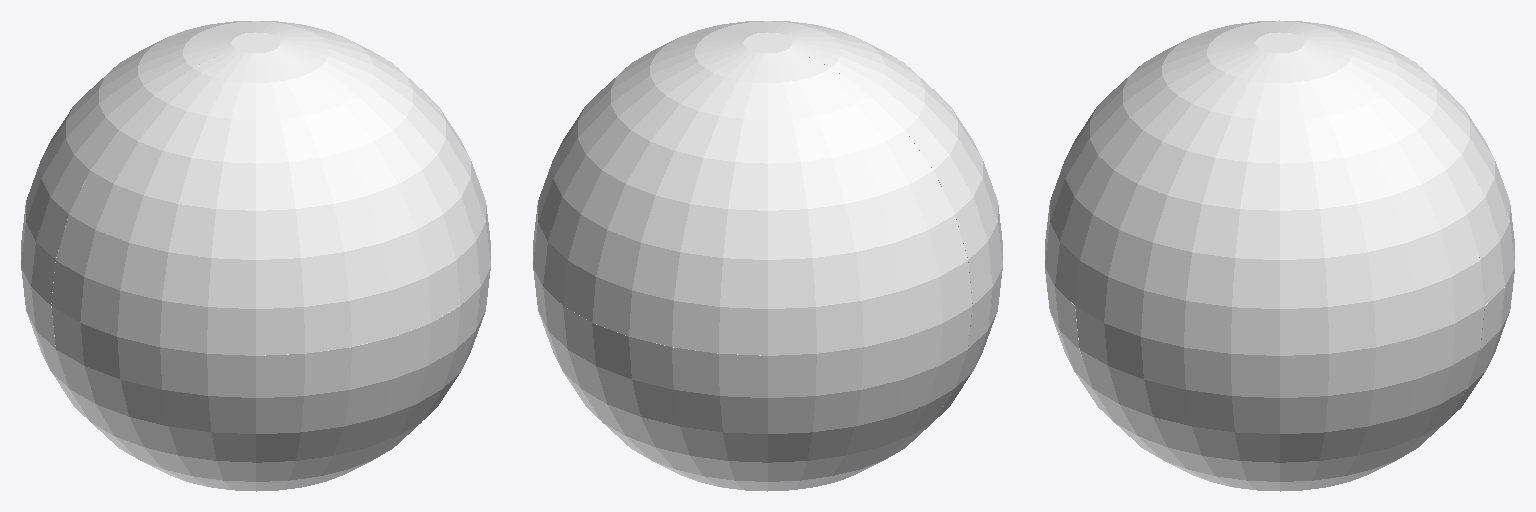
--- What the picture shows (computed from the rendered views, not written in the file) ---
3 views of the same robot in one strip: view 1: azimuth 30°, elevation 25°; view 2: azimuth 150°, elevation 25°; view 3: azimuth 270°, elevation 25° (orthographic).
Robot: morphex — 31 links, 30 joints (18 revolute, 12 fixed); root link body; default pose: all joints at 0.
Visible links, largest first — view 1: shell_top_right_rear, shell_top_right_middle, shell_bottom_right_middle, shell_bottom_right_rear, shell_top_left_rear, shell_top_right_front, shell_bottom_left_rear, shell_bottom_right_front, shell_top_left_front, shell_top_left_middle; view 2: shell_top_left_rear, shell_top_left_middle, shell_bottom_left_middle, shell_bottom_left_rear, shell_top_right_rear, shell_top_left_front, shell_bottom_right_rear, shell_bottom_left_front, shell_top_right_middle, shell_top_right_front; view 3: shell_top_right_front, shell_top_left_front, shell_bottom_right_front, shell_bottom_left_front, shell_top_right_middle, shell_top_left_middle, shell_bottom_left_middle, shell_bottom_right_middle, shell_top_left_rear, shell_top_right_rear.
Link boxes in pixels (x1,y1,x2,y2): shell_top_right_rear: (51, 43, 255, 355); shell_top_right_middle: (256, 43, 460, 355); shell_bottom_right_middle: (256, 306, 460, 491); shell_bottom_right_rear: (52, 307, 255, 490); shell_top_left_rear: (21, 37, 253, 304); shell_top_right_front: (258, 37, 490, 304); shell_bottom_left_rear: (21, 268, 88, 419); shell_bottom_right_front: (424, 268, 490, 419); shell_top_left_front: (256, 21, 391, 62); shell_top_left_middle: (120, 21, 255, 62); shell_top_left_rear: (768, 43, 972, 355); shell_top_left_middle: (563, 43, 767, 355); shell_bottom_left_middle: (563, 306, 767, 491); shell_bottom_left_rear: (768, 307, 971, 490); shell_top_right_rear: (770, 37, 1002, 304); shell_top_left_front: (533, 37, 765, 304); shell_bottom_right_rear: (912, 268, 1002, 441); shell_bottom_left_front: (533, 268, 599, 419); shell_top_right_middle: (768, 21, 903, 62); shell_top_right_front: (632, 21, 767, 62); shell_top_right_front: (1075, 43, 1279, 355); shell_top_left_front: (1280, 43, 1484, 355); shell_bottom_right_front: (1075, 306, 1279, 490); shell_bottom_left_front: (1280, 306, 1484, 491); shell_top_right_middle: (1045, 37, 1277, 304); shell_top_left_middle: (1282, 37, 1514, 304); shell_bottom_left_middle: (1418, 268, 1514, 447); shell_bottom_right_middle: (1045, 268, 1141, 447); shell_top_left_rear: (1280, 21, 1415, 62); shell_top_right_rear: (1144, 20, 1279, 62).
Bounding box of the posed robot: 0.34 × 0.3384 × 0.338 m (x, y, z).
Meshes: 1 distinct files referenced, 12 mesh visuals loaded (1 binary STL).

The robot description file, URDF, robot "morphex":
<?xml version="1.0" ?>
<robot name="morphex" xmlns:xacro="http://www.ros.org/wiki/xacro">
  <!--link name="base"/>
  <joint name="base_to_body" type="fixed">
    <parent link="base"/>
    <child link="body"/>
    <origin rpy="0 0 0" xyz="0 0 0"/>
  </joint-->
  <link name="body">
    <visual>
      <origin rpy="0 0 0" xyz="0 0 0"/>
      <geometry>
        <box size="0.16 0.16 0.08"/>
      </geometry>
      <material name="black"/>
    </visual>
    <collision>
      <origin rpy="0 0 0" xyz="0 0 0"/>
      <geometry>
        <box size="0.16 0.16 0.08"/>
      </geometry>
    </collision>
    <inertial>
      <origin rpy="0 0 0" xyz="0 0 0"/>
      <mass value="0.5"/>
      <inertia ixx="1.0" ixy="0.0" ixz="0.0" iyy="1.0" iyz="0.0" izz="1.0"/>
    </inertial>
  </link>
  <link name="shell_top_left_front">
    <visual>
      <origin rpy="0 0 0" xyz="0 0 0"/>
      <geometry>
        <mesh filename="meshes/shell.stl" scale="1 1 1"/>
      </geometry>
      <material name="white"/>
    </visual>
    <collision>
      <origin rpy="0 0 0" xyz="0 0 0"/>
      <geometry>
        <mesh filename="meshes/shell.stl" scale="1 1 1"/>
      </geometry>
    </collision>
    <inertial>
      <origin rpy="0 0 0" xyz="0 0 0"/>
      <mass value="5"/>
      <inertia ixx="1.0" ixy="0.0" ixz="0.0" iyy="1.0" iyz="0.0" izz="1.0"/>
    </inertial>
  </link>
  <joint name="body_to_shell_top_left_front" type="fixed">
    <parent link="body"/>
    <child link="shell_top_left_front"/>
    <origin rpy="0 0 0" xyz="0 0 0"/>
  </joint>
  <link name="shell_top_left_middle">
    <visual>
      <origin rpy="0 0 1.047" xyz="0 0 0"/>
      <geometry>
        <mesh filename="meshes/shell.stl" scale="1 1 1"/>
      </geometry>
      <material name="white"/>
    </visual>
    <collision>
      <origin rpy="0 0 1.047" xyz="0 0 0"/>
      <geometry>
        <mesh filename="meshes/shell.stl" scale="1 1 1"/>
      </geometry>
    </collision>
    <inertial>
      <origin rpy="0 0 1.047" xyz="0 0 0"/>
      <mass value="5"/>
      <inertia ixx="1.0" ixy="0.0" ixz="0.0" iyy="1.0" iyz="0.0" izz="1.0"/>
    </inertial>
  </link>
  <joint name="body_to_shell_top_left_middle" type="fixed">
    <parent link="body"/>
    <child link="shell_top_left_middle"/>
    <origin rpy="0 0 0" xyz="0 0 0"/>
  </joint>
  <link name="shell_top_left_rear">
    <visual>
      <origin rpy="0 0 2.094" xyz="0 0 0"/>
      <geometry>
        <mesh filename="meshes/shell.stl" scale="1 1 1"/>
      </geometry>
      <material name="white"/>
    </visual>
    <collision>
      <origin rpy="0 0 2.094" xyz="0 0 0"/>
      <geometry>
        <mesh filename="meshes/shell.stl" scale="1 1 1"/>
      </geometry>
    </collision>
    <inertial>
      <origin rpy="0 0 2.094" xyz="0 0 0"/>
      <mass value="5"/>
      <inertia ixx="1.0" ixy="0.0" ixz="0.0" iyy="1.0" iyz="0.0" izz="1.0"/>
    </inertial>
  </link>
  <joint name="body_to_shell_top_left_rear" type="fixed">
    <parent link="body"/>
    <child link="shell_top_left_rear"/>
    <origin rpy="0 0 0" xyz="0 0 0"/>
  </joint>
  <link name="shell_top_right_rear">
    <visual>
      <origin rpy="0 0 3.142" xyz="0 0 0"/>
      <geometry>
        <mesh filename="meshes/shell.stl" scale="1 1 1"/>
      </geometry>
      <material name="white"/>
    </visual>
    <collision>
      <origin rpy="0 0 3.142" xyz="0 0 0"/>
      <geometry>
        <mesh filename="meshes/shell.stl" scale="1 1 1"/>
      </geometry>
    </collision>
    <inertial>
      <origin rpy="0 0 3.142" xyz="0 0 0"/>
      <mass value="5"/>
      <inertia ixx="1.0" ixy="0.0" ixz="0.0" iyy="1.0" iyz="0.0" izz="1.0"/>
    </inertial>
  </link>
  <joint name="body_to_shell_top_right_rear" type="fixed">
    <parent link="body"/>
    <child link="shell_top_right_rear"/>
    <origin rpy="0 0 0" xyz="0 0 0"/>
  </joint>
  <link name="shell_top_right_middle">
    <visual>
      <origin rpy="0 0 4.189" xyz="0 0 0"/>
      <geometry>
        <mesh filename="meshes/shell.stl" scale="1 1 1"/>
      </geometry>
      <material name="white"/>
    </visual>
    <collision>
      <origin rpy="0 0 4.189" xyz="0 0 0"/>
      <geometry>
        <mesh filename="meshes/shell.stl" scale="1 1 1"/>
      </geometry>
    </collision>
    <inertial>
      <origin rpy="0 0 4.189" xyz="0 0 0"/>
      <mass value="5"/>
      <inertia ixx="1.0" ixy="0.0" ixz="0.0" iyy="1.0" iyz="0.0" izz="1.0"/>
    </inertial>
  </link>
  <joint name="body_to_shell_top_right_middle" type="fixed">
    <parent link="body"/>
    <child link="shell_top_right_middle"/>
    <origin rpy="0 0 0" xyz="0 0 0"/>
  </joint>
  <link name="shell_top_right_front">
    <visual>
      <origin rpy="0 0 5.236" xyz="0 0 0"/>
      <geometry>
        <mesh filename="meshes/shell.stl" scale="1 1 1"/>
      </geometry>
      <material name="white"/>
    </visual>
    <collision>
      <origin rpy="0 0 5.236" xyz="0 0 0"/>
      <geometry>
        <mesh filename="meshes/shell.stl" scale="1 1 1"/>
      </geometry>
    </collision>
    <inertial>
      <origin rpy="0 0 5.236" xyz="0 0 0"/>
      <mass value="5"/>
      <inertia ixx="1.0" ixy="0.0" ixz="0.0" iyy="1.0" iyz="0.0" izz="1.0"/>
    </inertial>
  </link>
  <joint name="body_to_shell_top_right_front" type="fixed">
    <parent link="body"/>
    <child link="shell_top_right_front"/>
    <origin rpy="0 0 0" xyz="0 0 0"/>
  </joint>
  <joint name="body_to_left_front_femur" type="revolute">
    <parent link="body"/>
    <child link="left_front_femur"/>
    <origin rpy="0 0 -1.047" xyz="0.069 0.04 -0.04"/>
    <axis xyz="0 0 1"/>
    <limit effort="2.8" lower="-2.6" upper="2.6" velocity="5.6"/>
  </joint>
  <link name="left_front_femur">
    <visual>
      <origin rpy="0 0 0" xyz="0 0.02 0"/>
      <geometry>
        <box size="0.04 0.04 0.02"/>
      </geometry>
      <material name="black"/>
    </visual>
    <collision>
      <origin rpy="0 0 0" xyz="0 0.02 0"/>
      <geometry>
        <box size="0.04 0.04 0.02"/>
      </geometry>
    </collision>
    <inertial>
      <origin rpy="0 0 0" xyz="0 0.02 0"/>
      <mass value="0.5"/>
      <inertia ixx="1.0" ixy="0.0" ixz="0.0" iyy="1.0" iyz="0.0" izz="1.0"/>
    </inertial>
  </link>
  <joint name="left_front_femur_to_tibia" type="revolute">
    <parent link="left_front_femur"/>
    <child link="left_front_tibia"/>
    <origin rpy="-2.159 0 0" xyz="0 0.04 0"/>
    <axis xyz="1 0 0"/>
    <limit effort="2.8" lower="-2.6" upper="2.6" velocity="5.6"/>
  </joint>
  <link name="left_front_tibia">
    <visual>
      <origin rpy="0 0 0" xyz="0 0.036 0"/>
      <geometry>
        <box size="0.04 0.072 0.02"/>
      </geometry>
      <material name="black"/>
    </visual>
    <collision>
      <origin rpy="0 0 0" xyz="0 0.036 0"/>
      <geometry>
        <box size="0.04 0.072 0.02"/>
      </geometry>
    </collision>
    <inertial>
      <origin rpy="0 0 0" xyz="0 0.036 0"/>
      <mass value="0.5"/>
      <inertia ixx="1.0" ixy="0.0" ixz="0.0" iyy="1.0" iyz="0.0" izz="1.0"/>
    </inertial>
  </link>
  <joint name="left_front_tibia_to_tarsus" type="revolute">
    <parent link="left_front_tibia"/>
    <child link="left_front_tarsus"/>
    <origin rpy="-0.519 0 0" xyz="0 0.072 0"/>
    <axis xyz="1 0 0"/>
    <limit effort="2.8" lower="-2.6" upper="2.6" velocity="5.6"/>
  </joint>
  <link name="left_front_tarsus">
    <visual>
      <origin rpy="0 0 0" xyz="0 0.0335 0"/>
      <geometry>
        <box size="0.04 0.067 0.02"/>
      </geometry>
      <material name="black"/>
    </visual>
    <collision>
      <origin rpy="0 0 0" xyz="0 0.0335 0"/>
      <geometry>
        <box size="0.04 0.067 0.02"/>
      </geometry>
    </collision>
    <inertial>
      <origin rpy="0 0 0" xyz="0 0.0335 0"/>
      <mass value="3"/>
      <inertia ixx="1.0" ixy="0.0" ixz="0.0" iyy="1.0" iyz="0.0" izz="1.0"/>
    </inertial>
  </link>
  <joint name="left_front_tarsus_to_shell" type="fixed">
    <parent link="left_front_tarsus"/>
    <child link="shell_bottom_left_front"/>
    <origin rpy="2.678 0 0" xyz="0 0.067 0"/>
  </joint>
  <transmission name="trans_body_to_left_front_femur">
    <type>transmission_interface/SimpleTransmission</type>
    <joint name="body_to_left_front_femur">
      <hardwareInterface>EffortJointInterface</hardwareInterface>
    </joint>
    <actuator name="motor_body_to_left_front_femur">
      <mechanicalReduction>1</mechanicalReduction>
    </actuator>
  </transmission>
  <transmission name="trans_left_front_femur_to_tibia">
    <type>transmission_interface/SimpleTransmission</type>
    <joint name="left_front_femur_to_tibia">
      <hardwareInterface>EffortJointInterface</hardwareInterface>
    </joint>
    <actuator name="motor_left_front_femur_to_tibia">
      <mechanicalReduction>1</mechanicalReduction>
    </actuator>
  </transmission>
  <transmission name="trans_left_front_tibia_to_tarsus">
    <type>transmission_interface/SimpleTransmission</type>
    <joint name="left_front_tibia_to_tarsus">
      <hardwareInterface>EffortJointInterface</hardwareInterface>
    </joint>
    <actuator name="motor_left_front_tibia_to_tarsus">
      <mechanicalReduction>1</mechanicalReduction>
    </actuator>
  </transmission>
  <joint name="body_to_left_middle_femur" type="revolute">
    <parent link="body"/>
    <child link="left_middle_femur"/>
    <origin rpy="0 0 0" xyz="0 0.08 -0.04"/>
    <axis xyz="0 0 1"/>
    <limit effort="2.8" lower="-2.6" upper="2.6" velocity="5.6"/>
  </joint>
  <link name="left_middle_femur">
    <visual>
      <origin rpy="0 0 0" xyz="0 0.02 0"/>
      <geometry>
        <box size="0.04 0.04 0.02"/>
      </geometry>
      <material name="black"/>
    </visual>
    <collision>
      <origin rpy="0 0 0" xyz="0 0.02 0"/>
      <geometry>
        <box size="0.04 0.04 0.02"/>
      </geometry>
    </collision>
    <inertial>
      <origin rpy="0 0 0" xyz="0 0.02 0"/>
      <mass value="0.5"/>
      <inertia ixx="1.0" ixy="0.0" ixz="0.0" iyy="1.0" iyz="0.0" izz="1.0"/>
    </inertial>
  </link>
  <joint name="left_middle_femur_to_tibia" type="revolute">
    <parent link="left_middle_femur"/>
    <child link="left_middle_tibia"/>
    <origin rpy="-2.159 0 0" xyz="0 0.04 0"/>
    <axis xyz="1 0 0"/>
    <limit effort="2.8" lower="-2.6" upper="2.6" velocity="5.6"/>
  </joint>
  <link name="left_middle_tibia">
    <visual>
      <origin rpy="0 0 0" xyz="0 0.036 0"/>
      <geometry>
        <box size="0.04 0.072 0.02"/>
      </geometry>
      <material name="black"/>
    </visual>
    <collision>
      <origin rpy="0 0 0" xyz="0 0.036 0"/>
      <geometry>
        <box size="0.04 0.072 0.02"/>
      </geometry>
    </collision>
    <inertial>
      <origin rpy="0 0 0" xyz="0 0.036 0"/>
      <mass value="0.5"/>
      <inertia ixx="1.0" ixy="0.0" ixz="0.0" iyy="1.0" iyz="0.0" izz="1.0"/>
    </inertial>
  </link>
  <joint name="left_middle_tibia_to_tarsus" type="revolute">
    <parent link="left_middle_tibia"/>
    <child link="left_middle_tarsus"/>
    <origin rpy="-0.519 0 0" xyz="0 0.072 0"/>
    <axis xyz="1 0 0"/>
    <limit effort="2.8" lower="-2.6" upper="2.6" velocity="5.6"/>
  </joint>
  <link name="left_middle_tarsus">
    <visual>
      <origin rpy="0 0 0" xyz="0 0.0335 0"/>
      <geometry>
        <box size="0.04 0.067 0.02"/>
      </geometry>
      <material name="black"/>
    </visual>
    <collision>
      <origin rpy="0 0 0" xyz="0 0.0335 0"/>
      <geometry>
        <box size="0.04 0.067 0.02"/>
      </geometry>
    </collision>
    <inertial>
      <origin rpy="0 0 0" xyz="0 0.0335 0"/>
      <mass value="3"/>
      <inertia ixx="1.0" ixy="0.0" ixz="0.0" iyy="1.0" iyz="0.0" izz="1.0"/>
    </inertial>
  </link>
  <joint name="left_middle_tarsus_to_shell" type="fixed">
    <parent link="left_middle_tarsus"/>
    <child link="shell_bottom_left_middle"/>
    <origin rpy="2.678 0 0" xyz="0 0.067 0"/>
  </joint>
  <transmission name="trans_body_to_left_middle_femur">
    <type>transmission_interface/SimpleTransmission</type>
    <joint name="body_to_left_middle_femur">
      <hardwareInterface>EffortJointInterface</hardwareInterface>
    </joint>
    <actuator name="motor_body_to_left_middle_femur">
      <mechanicalReduction>1</mechanicalReduction>
    </actuator>
  </transmission>
  <transmission name="trans_left_middle_femur_to_tibia">
    <type>transmission_interface/SimpleTransmission</type>
    <joint name="left_middle_femur_to_tibia">
      <hardwareInterface>EffortJointInterface</hardwareInterface>
    </joint>
    <actuator name="motor_left_middle_femur_to_tibia">
      <mechanicalReduction>1</mechanicalReduction>
    </actuator>
  </transmission>
  <transmission name="trans_left_middle_tibia_to_tarsus">
    <type>transmission_interface/SimpleTransmission</type>
    <joint name="left_middle_tibia_to_tarsus">
      <hardwareInterface>EffortJointInterface</hardwareInterface>
    </joint>
    <actuator name="motor_left_middle_tibia_to_tarsus">
      <mechanicalReduction>1</mechanicalReduction>
    </actuator>
  </transmission>
  <joint name="body_to_left_rear_femur" type="revolute">
    <parent link="body"/>
    <child link="left_rear_femur"/>
    <origin rpy="0 0 1.047" xyz="-0.069 0.04 -0.04"/>
    <axis xyz="0 0 1"/>
    <limit effort="2.8" lower="-2.6" upper="2.6" velocity="5.6"/>
  </joint>
  <link name="left_rear_femur">
    <visual>
      <origin rpy="0 0 0" xyz="0 0.02 0"/>
      <geometry>
        <box size="0.04 0.04 0.02"/>
      </geometry>
      <material name="black"/>
    </visual>
    <collision>
      <origin rpy="0 0 0" xyz="0 0.02 0"/>
      <geometry>
        <box size="0.04 0.04 0.02"/>
      </geometry>
    </collision>
    <inertial>
      <origin rpy="0 0 0" xyz="0 0.02 0"/>
      <mass value="0.5"/>
      <inertia ixx="1.0" ixy="0.0" ixz="0.0" iyy="1.0" iyz="0.0" izz="1.0"/>
    </inertial>
  </link>
  <joint name="left_rear_femur_to_tibia" type="revolute">
    <parent link="left_rear_femur"/>
    <child link="left_rear_tibia"/>
    <origin rpy="-2.159 0 0" xyz="0 0.04 0"/>
    <axis xyz="1 0 0"/>
    <limit effort="2.8" lower="-2.6" upper="2.6" velocity="5.6"/>
  </joint>
  <link name="left_rear_tibia">
    <visual>
      <origin rpy="0 0 0" xyz="0 0.036 0"/>
      <geometry>
        <box size="0.04 0.072 0.02"/>
      </geometry>
      <material name="black"/>
    </visual>
    <collision>
      <origin rpy="0 0 0" xyz="0 0.036 0"/>
      <geometry>
        <box size="0.04 0.072 0.02"/>
      </geometry>
    </collision>
    <inertial>
      <origin rpy="0 0 0" xyz="0 0.036 0"/>
      <mass value="0.5"/>
      <inertia ixx="1.0" ixy="0.0" ixz="0.0" iyy="1.0" iyz="0.0" izz="1.0"/>
    </inertial>
  </link>
  <joint name="left_rear_tibia_to_tarsus" type="revolute">
    <parent link="left_rear_tibia"/>
    <child link="left_rear_tarsus"/>
    <origin rpy="-0.519 0 0" xyz="0 0.072 0"/>
    <axis xyz="1 0 0"/>
    <limit effort="2.8" lower="-2.6" upper="2.6" velocity="5.6"/>
  </joint>
  <link name="left_rear_tarsus">
    <visual>
      <origin rpy="0 0 0" xyz="0 0.0335 0"/>
      <geometry>
        <box size="0.04 0.067 0.02"/>
      </geometry>
      <material name="black"/>
    </visual>
    <collision>
      <origin rpy="0 0 0" xyz="0 0.0335 0"/>
      <geometry>
        <box size="0.04 0.067 0.02"/>
      </geometry>
    </collision>
    <inertial>
      <origin rpy="0 0 0" xyz="0 0.0335 0"/>
      <mass value="3"/>
      <inertia ixx="1.0" ixy="0.0" ixz="0.0" iyy="1.0" iyz="0.0" izz="1.0"/>
    </inertial>
  </link>
  <joint name="left_rear_tarsus_to_shell" type="fixed">
    <parent link="left_rear_tarsus"/>
    <child link="shell_bottom_left_rear"/>
    <origin rpy="2.678 0 0" xyz="0 0.067 0"/>
  </joint>
  <transmission name="trans_body_to_left_rear_femur">
    <type>transmission_interface/SimpleTransmission</type>
    <joint name="body_to_left_rear_femur">
      <hardwareInterface>EffortJointInterface</hardwareInterface>
    </joint>
    <actuator name="motor_body_to_left_rear_femur">
      <mechanicalReduction>1</mechanicalReduction>
    </actuator>
  </transmission>
  <transmission name="trans_left_rear_femur_to_tibia">
    <type>transmission_interface/SimpleTransmission</type>
    <joint name="left_rear_femur_to_tibia">
      <hardwareInterface>EffortJointInterface</hardwareInterface>
    </joint>
    <actuator name="motor_left_rear_femur_to_tibia">
      <mechanicalReduction>1</mechanicalReduction>
    </actuator>
  </transmission>
  <transmission name="trans_left_rear_tibia_to_tarsus">
    <type>transmission_interface/SimpleTransmission</type>
    <joint name="left_rear_tibia_to_tarsus">
      <hardwareInterface>EffortJointInterface</hardwareInterface>
    </joint>
    <actuator name="motor_left_rear_tibia_to_tarsus">
      <mechanicalReduction>1</mechanicalReduction>
    </actuator>
  </transmission>
  <joint name="body_to_right_front_femur" type="revolute">
    <parent link="body"/>
    <child link="right_front_femur"/>
    <origin rpy="0 0 1.047" xyz="0.069 -0.04 -0.04"/>
    <axis xyz="0 0 1"/>
    <limit effort="2.8" lower="-2.6" upper="2.6" velocity="5.6"/>
  </joint>
  <link name="right_front_femur">
    <visual>
      <origin rpy="0 0 0" xyz="0 -0.02 0"/>
      <geometry>
        <box size="0.04 0.04 0.02"/>
      </geometry>
      <material name="black"/>
    </visual>
    <collision>
      <origin rpy="0 0 0" xyz="0 -0.02 0"/>
      <geometry>
        <box size="0.04 0.04 0.02"/>
      </geometry>
    </collision>
    <inertial>
      <origin rpy="0 0 0" xyz="0 -0.02 0"/>
      <mass value="0.5"/>
      <inertia ixx="1.0" ixy="0.0" ixz="0.0" iyy="1.0" iyz="0.0" izz="1.0"/>
    </inertial>
  </link>
  <joint name="right_front_femur_to_tibia" type="revolute">
    <parent link="right_front_femur"/>
    <child link="right_front_tibia"/>
    <origin rpy="2.159 0 0" xyz="0 -0.04 0"/>
    <axis xyz="1 0 0"/>
    <limit effort="2.8" lower="-2.6" upper="2.6" velocity="5.6"/>
  </joint>
  <link name="right_front_tibia">
    <visual>
      <origin rpy="0 0 0" xyz="0 -0.036 0"/>
      <geometry>
        <box size="0.04 0.072 0.02"/>
      </geometry>
      <material name="black"/>
    </visual>
    <collision>
      <origin rpy="0 0 0" xyz="0 -0.036 0"/>
      <geometry>
        <box size="0.04 0.072 0.02"/>
      </geometry>
    </collision>
    <inertial>
      <origin rpy="0 0 0" xyz="0 -0.036 0"/>
      <mass value="0.5"/>
      <inertia ixx="1.0" ixy="0.0" ixz="0.0" iyy="1.0" iyz="0.0" izz="1.0"/>
    </inertial>
  </link>
  <joint name="right_front_tibia_to_tarsus" type="revolute">
    <parent link="right_front_tibia"/>
    <child link="right_front_tarsus"/>
    <origin rpy="0.519 0 0" xyz="0 -0.072 0"/>
    <axis xyz="1 0 0"/>
    <limit effort="2.8" lower="-2.6" upper="2.6" velocity="5.6"/>
  </joint>
  <link name="right_front_tarsus">
    <visual>
      <origin rpy="0 0 0" xyz="0 -0.0335 0"/>
      <geometry>
        <box size="0.04 0.067 0.02"/>
      </geometry>
      <material name="black"/>
    </visual>
    <collision>
      <origin rpy="0 0 0" xyz="0 -0.0335 0"/>
      <geometry>
        <box size="0.04 0.067 0.02"/>
      </geometry>
    </collision>
    <inertial>
      <origin rpy="0 0 0" xyz="0 -0.0335 0"/>
      <mass value="3"/>
      <inertia ixx="1.0" ixy="0.0" ixz="0.0" iyy="1.0" iyz="0.0" izz="1.0"/>
    </inertial>
  </link>
  <joint name="right_front_tarsus_to_shell" type="fixed">
    <parent link="right_front_tarsus"/>
    <child link="shell_bottom_right_front"/>
    <origin rpy="-2.678 0 0" xyz="0 -0.067 0"/>
  </joint>
  <transmission name="trans_body_to_right_front_femur">
    <type>transmission_interface/SimpleTransmission</type>
    <joint name="body_to_right_front_femur">
      <hardwareInterface>EffortJointInterface</hardwareInterface>
    </joint>
    <actuator name="motor_body_to_right_front_femur">
      <mechanicalReduction>1</mechanicalReduction>
    </actuator>
  </transmission>
  <transmission name="trans_right_front_femur_to_tibia">
    <type>transmission_interface/SimpleTransmission</type>
    <joint name="right_front_femur_to_tibia">
      <hardwareInterface>EffortJointInterface</hardwareInterface>
    </joint>
    <actuator name="motor_right_front_femur_to_tibia">
      <mechanicalReduction>1</mechanicalReduction>
    </actuator>
  </transmission>
  <transmission name="trans_right_front_tibia_to_tarsus">
    <type>transmission_interface/SimpleTransmission</type>
    <joint name="right_front_tibia_to_tarsus">
      <hardwareInterface>EffortJointInterface</hardwareInterface>
    </joint>
    <actuator name="motor_right_front_tibia_to_tarsus">
      <mechanicalReduction>1</mechanicalReduction>
    </actuator>
  </transmission>
  <joint name="body_to_right_middle_femur" type="revolute">
    <parent link="body"/>
    <child link="right_middle_femur"/>
    <origin rpy="0 0 0" xyz="0 -0.08 -0.04"/>
    <axis xyz="0 0 1"/>
    <limit effort="2.8" lower="-2.6" upper="2.6" velocity="5.6"/>
  </joint>
  <link name="right_middle_femur">
    <visual>
      <origin rpy="0 0 0" xyz="0 -0.02 0"/>
      <geometry>
        <box size="0.04 0.04 0.02"/>
      </geometry>
      <material name="black"/>
    </visual>
    <collision>
      <origin rpy="0 0 0" xyz="0 -0.02 0"/>
      <geometry>
        <box size="0.04 0.04 0.02"/>
      </geometry>
    </collision>
    <inertial>
      <origin rpy="0 0 0" xyz="0 -0.02 0"/>
      <mass value="0.5"/>
      <inertia ixx="1.0" ixy="0.0" ixz="0.0" iyy="1.0" iyz="0.0" izz="1.0"/>
    </inertial>
  </link>
  <joint name="right_middle_femur_to_tibia" type="revolute">
    <parent link="right_middle_femur"/>
    <child link="right_middle_tibia"/>
    <origin rpy="2.159 0 0" xyz="0 -0.04 0"/>
    <axis xyz="1 0 0"/>
    <limit effort="2.8" lower="-2.6" upper="2.6" velocity="5.6"/>
  </joint>
  <link name="right_middle_tibia">
    <visual>
      <origin rpy="0 0 0" xyz="0 -0.036 0"/>
      <geometry>
        <box size="0.04 0.072 0.02"/>
      </geometry>
      <material name="black"/>
    </visual>
    <collision>
      <origin rpy="0 0 0" xyz="0 -0.036 0"/>
      <geometry>
        <box size="0.04 0.072 0.02"/>
      </geometry>
    </collision>
    <inertial>
      <origin rpy="0 0 0" xyz="0 -0.036 0"/>
      <mass value="0.5"/>
      <inertia ixx="1.0" ixy="0.0" ixz="0.0" iyy="1.0" iyz="0.0" izz="1.0"/>
    </inertial>
  </link>
  <joint name="right_middle_tibia_to_tarsus" type="revolute">
    <parent link="right_middle_tibia"/>
    <child link="right_middle_tarsus"/>
    <origin rpy="0.519 0 0" xyz="0 -0.072 0"/>
    <axis xyz="1 0 0"/>
    <limit effort="2.8" lower="-2.6" upper="2.6" velocity="5.6"/>
  </joint>
  <link name="right_middle_tarsus">
    <visual>
      <origin rpy="0 0 0" xyz="0 -0.0335 0"/>
      <geometry>
        <box size="0.04 0.067 0.02"/>
      </geometry>
      <material name="black"/>
    </visual>
    <collision>
      <origin rpy="0 0 0" xyz="0 -0.0335 0"/>
      <geometry>
        <box size="0.04 0.067 0.02"/>
      </geometry>
    </collision>
    <inertial>
      <origin rpy="0 0 0" xyz="0 -0.0335 0"/>
      <mass value="3"/>
      <inertia ixx="1.0" ixy="0.0" ixz="0.0" iyy="1.0" iyz="0.0" izz="1.0"/>
    </inertial>
  </link>
  <joint name="right_middle_tarsus_to_shell" type="fixed">
    <parent link="right_middle_tarsus"/>
    <child link="shell_bottom_right_middle"/>
    <origin rpy="-2.678 0 0" xyz="0 -0.067 0"/>
  </joint>
  <transmission name="trans_body_to_right_middle_femur">
    <type>transmission_interface/SimpleTransmission</type>
    <joint name="body_to_right_middle_femur">
      <hardwareInterface>EffortJointInterface</hardwareInterface>
    </joint>
    <actuator name="motor_body_to_right_middle_femur">
      <mechanicalReduction>1</mechanicalReduction>
    </actuator>
  </transmission>
  <transmission name="trans_right_middle_femur_to_tibia">
    <type>transmission_interface/SimpleTransmission</type>
    <joint name="right_middle_femur_to_tibia">
      <hardwareInterface>EffortJointInterface</hardwareInterface>
    </joint>
    <actuator name="motor_right_middle_femur_to_tibia">
      <mechanicalReduction>1</mechanicalReduction>
    </actuator>
  </transmission>
  <transmission name="trans_right_middle_tibia_to_tarsus">
    <type>transmission_interface/SimpleTransmission</type>
    <joint name="right_middle_tibia_to_tarsus">
      <hardwareInterface>EffortJointInterface</hardwareInterface>
    </joint>
    <actuator name="motor_right_middle_tibia_to_tarsus">
      <mechanicalReduction>1</mechanicalReduction>
    </actuator>
  </transmission>
  <joint name="body_to_right_rear_femur" type="revolute">
    <parent link="body"/>
    <child link="right_rear_femur"/>
    <origin rpy="0 0 -1.047" xyz="-0.069 -0.04 -0.04"/>
    <axis xyz="0 0 1"/>
    <limit effort="2.8" lower="-2.6" upper="2.6" velocity="5.6"/>
  </joint>
  <link name="right_rear_femur">
    <visual>
      <origin rpy="0 0 0" xyz="0 -0.02 0"/>
      <geometry>
        <box size="0.04 0.04 0.02"/>
      </geometry>
      <material name="black"/>
    </visual>
    <collision>
      <origin rpy="0 0 0" xyz="0 -0.02 0"/>
      <geometry>
        <box size="0.04 0.04 0.02"/>
      </geometry>
    </collision>
    <inertial>
      <origin rpy="0 0 0" xyz="0 -0.02 0"/>
      <mass value="0.5"/>
      <inertia ixx="1.0" ixy="0.0" ixz="0.0" iyy="1.0" iyz="0.0" izz="1.0"/>
    </inertial>
  </link>
  <joint name="right_rear_femur_to_tibia" type="revolute">
    <parent link="right_rear_femur"/>
    <child link="right_rear_tibia"/>
    <origin rpy="2.159 0 0" xyz="0 -0.04 0"/>
    <axis xyz="1 0 0"/>
    <limit effort="2.8" lower="-2.6" upper="2.6" velocity="5.6"/>
  </joint>
  <link name="right_rear_tibia">
    <visual>
      <origin rpy="0 0 0" xyz="0 -0.036 0"/>
      <geometry>
        <box size="0.04 0.072 0.02"/>
      </geometry>
      <material name="black"/>
    </visual>
    <collision>
      <origin rpy="0 0 0" xyz="0 -0.036 0"/>
      <geometry>
        <box size="0.04 0.072 0.02"/>
      </geometry>
    </collision>
    <inertial>
      <origin rpy="0 0 0" xyz="0 -0.036 0"/>
      <mass value="0.5"/>
      <inertia ixx="1.0" ixy="0.0" ixz="0.0" iyy="1.0" iyz="0.0" izz="1.0"/>
    </inertial>
  </link>
  <joint name="right_rear_tibia_to_tarsus" type="revolute">
    <parent link="right_rear_tibia"/>
    <child link="right_rear_tarsus"/>
    <origin rpy="0.519 0 0" xyz="0 -0.072 0"/>
    <axis xyz="1 0 0"/>
    <limit effort="2.8" lower="-2.6" upper="2.6" velocity="5.6"/>
  </joint>
  <link name="right_rear_tarsus">
    <visual>
      <origin rpy="0 0 0" xyz="0 -0.0335 0"/>
      <geometry>
        <box size="0.04 0.067 0.02"/>
      </geometry>
      <material name="black"/>
    </visual>
    <collision>
      <origin rpy="0 0 0" xyz="0 -0.0335 0"/>
      <geometry>
        <box size="0.04 0.067 0.02"/>
      </geometry>
    </collision>
    <inertial>
      <origin rpy="0 0 0" xyz="0 -0.0335 0"/>
      <mass value="3"/>
      <inertia ixx="1.0" ixy="0.0" ixz="0.0" iyy="1.0" iyz="0.0" izz="1.0"/>
    </inertial>
  </link>
  <joint name="right_rear_tarsus_to_shell" type="fixed">
    <parent link="right_rear_tarsus"/>
    <child link="shell_bottom_right_rear"/>
    <origin rpy="-2.678 0 0" xyz="0 -0.067 0"/>
  </joint>
  <transmission name="trans_body_to_right_rear_femur">
    <type>transmission_interface/SimpleTransmission</type>
    <joint name="body_to_right_rear_femur">
      <hardwareInterface>EffortJointInterface</hardwareInterface>
    </joint>
    <actuator name="motor_body_to_right_rear_femur">
      <mechanicalReduction>1</mechanicalReduction>
    </actuator>
  </transmission>
  <transmission name="trans_right_rear_femur_to_tibia">
    <type>transmission_interface/SimpleTransmission</type>
    <joint name="right_rear_femur_to_tibia">
      <hardwareInterface>EffortJointInterface</hardwareInterface>
    </joint>
    <actuator name="motor_right_rear_femur_to_tibia">
      <mechanicalReduction>1</mechanicalReduction>
    </actuator>
  </transmission>
  <transmission name="trans_right_rear_tibia_to_tarsus">
    <type>transmission_interface/SimpleTransmission</type>
    <joint name="right_rear_tibia_to_tarsus">
      <hardwareInterface>EffortJointInterface</hardwareInterface>
    </joint>
    <actuator name="motor_right_rear_tibia_to_tarsus">
      <mechanicalReduction>1</mechanicalReduction>
    </actuator>
  </transmission>
  <link name="shell_bottom_left_front">
    <visual>
      <origin rpy="3.142 0 2.094" xyz="0 -.02 .13"/>
      <geometry>
        <mesh filename="meshes/shell.stl" scale="1 1 1"/>
      </geometry>
      <material name="white"/>
    </visual>
    <collision>
      <origin rpy="3.142 0 2.094" xyz="0 -.02 .13"/>
      <geometry>
        <mesh filename="meshes/shell.stl" scale="1 1 1"/>
      </geometry>
    </collision>
    <inertial>
      <origin rpy="3.142 0 2.094" xyz="0 -.02 .13"/>
      <mass value="5"/>
      <inertia ixx="1.0" ixy="0.0" ixz="0.0" iyy="1.0" iyz="0.0" izz="1.0"/>
    </inertial>
  </link>
  <link name="shell_bottom_left_middle">
    <visual>
      <origin rpy="3.142 0 2.094" xyz="0 -.02 .13"/>
      <geometry>
        <mesh filename="meshes/shell.stl" scale="1 1 1"/>
      </geometry>
      <material name="white"/>
    </visual>
    <collision>
      <origin rpy="3.142 0 2.094" xyz="0 -.02 .13"/>
      <geometry>
        <mesh filename="meshes/shell.stl" scale="1 1 1"/>
      </geometry>
    </collision>
    <inertial>
      <origin rpy="3.142 0 2.094" xyz="0 -.02 .13"/>
      <mass value="5"/>
      <inertia ixx="1.0" ixy="0.0" ixz="0.0" iyy="1.0" iyz="0.0" izz="1.0"/>
    </inertial>
  </link>
  <link name="shell_bottom_left_rear">
    <visual>
      <origin rpy="3.142 0 2.094" xyz="0 -.02 .13"/>
      <geometry>
        <mesh filename="meshes/shell.stl" scale="1 1 1"/>
      </geometry>
      <material name="white"/>
    </visual>
    <collision>
      <origin rpy="3.142 0 2.094" xyz="0 -.02 .13"/>
      <geometry>
        <mesh filename="meshes/shell.stl" scale="1 1 1"/>
      </geometry>
    </collision>
    <inertial>
      <origin rpy="3.142 0 2.094" xyz="0 -.02 .13"/>
      <mass value="5"/>
      <inertia ixx="1.0" ixy="0.0" ixz="0.0" iyy="1.0" iyz="0.0" izz="1.0"/>
    </inertial>
  </link>
  <link name="shell_bottom_right_front">
    <visual>
      <origin rpy="3.142 0 5.236" xyz="0 .02 .13"/>
      <geometry>
        <mesh filename="meshes/shell.stl" scale="1 1 1"/>
      </geometry>
      <material name="white"/>
    </visual>
    <collision>
      <origin rpy="3.142 0 5.236" xyz="0 .02 .13"/>
      <geometry>
        <mesh filename="meshes/shell.stl" scale="1 1 1"/>
      </geometry>
    </collision>
    <inertial>
      <origin rpy="3.142 0 5.236" xyz="0 .02 .13"/>
      <mass value="5"/>
      <inertia ixx="1.0" ixy="0.0" ixz="0.0" iyy="1.0" iyz="0.0" izz="1.0"/>
    </inertial>
  </link>
  <link name="shell_bottom_right_middle">
    <visual>
      <origin rpy="3.142 0 5.236" xyz="0 .02 .13"/>
      <geometry>
        <mesh filename="meshes/shell.stl" scale="1 1 1"/>
      </geometry>
      <material name="white"/>
    </visual>
    <collision>
      <origin rpy="3.142 0 5.236" xyz="0 .02 .13"/>
      <geometry>
        <mesh filename="meshes/shell.stl" scale="1 1 1"/>
      </geometry>
    </collision>
    <inertial>
      <origin rpy="3.142 0 5.236" xyz="0 .02 .13"/>
      <mass value="5"/>
      <inertia ixx="1.0" ixy="0.0" ixz="0.0" iyy="1.0" iyz="0.0" izz="1.0"/>
    </inertial>
  </link>
  <link name="shell_bottom_right_rear">
    <visual>
      <origin rpy="3.142 0 5.236" xyz="0 .02 .13"/>
      <geometry>
        <mesh filename="meshes/shell.stl" scale="1 1 1"/>
      </geometry>
      <material name="white"/>
    </visual>
    <collision>
      <origin rpy="3.142 0 5.236" xyz="0 .02 .13"/>
      <geometry>
        <mesh filename="meshes/shell.stl" scale="1 1 1"/>
      </geometry>
    </collision>
    <inertial>
      <origin rpy="3.142 0 5.236" xyz="0 .02 .13"/>
      <mass value="5"/>
      <inertia ixx="1.0" ixy="0.0" ixz="0.0" iyy="1.0" iyz="0.0" izz="1.0"/>
    </inertial>
  </link>
  <material name="black">
    <color rgba="0.0392156862745 0.0392156862745 0.0392156862745 1.0"/>
  </material>
  <material name="white">
    <color rgba="0.99 0.99 0.99 0.5"/>
  </material>
</robot>
